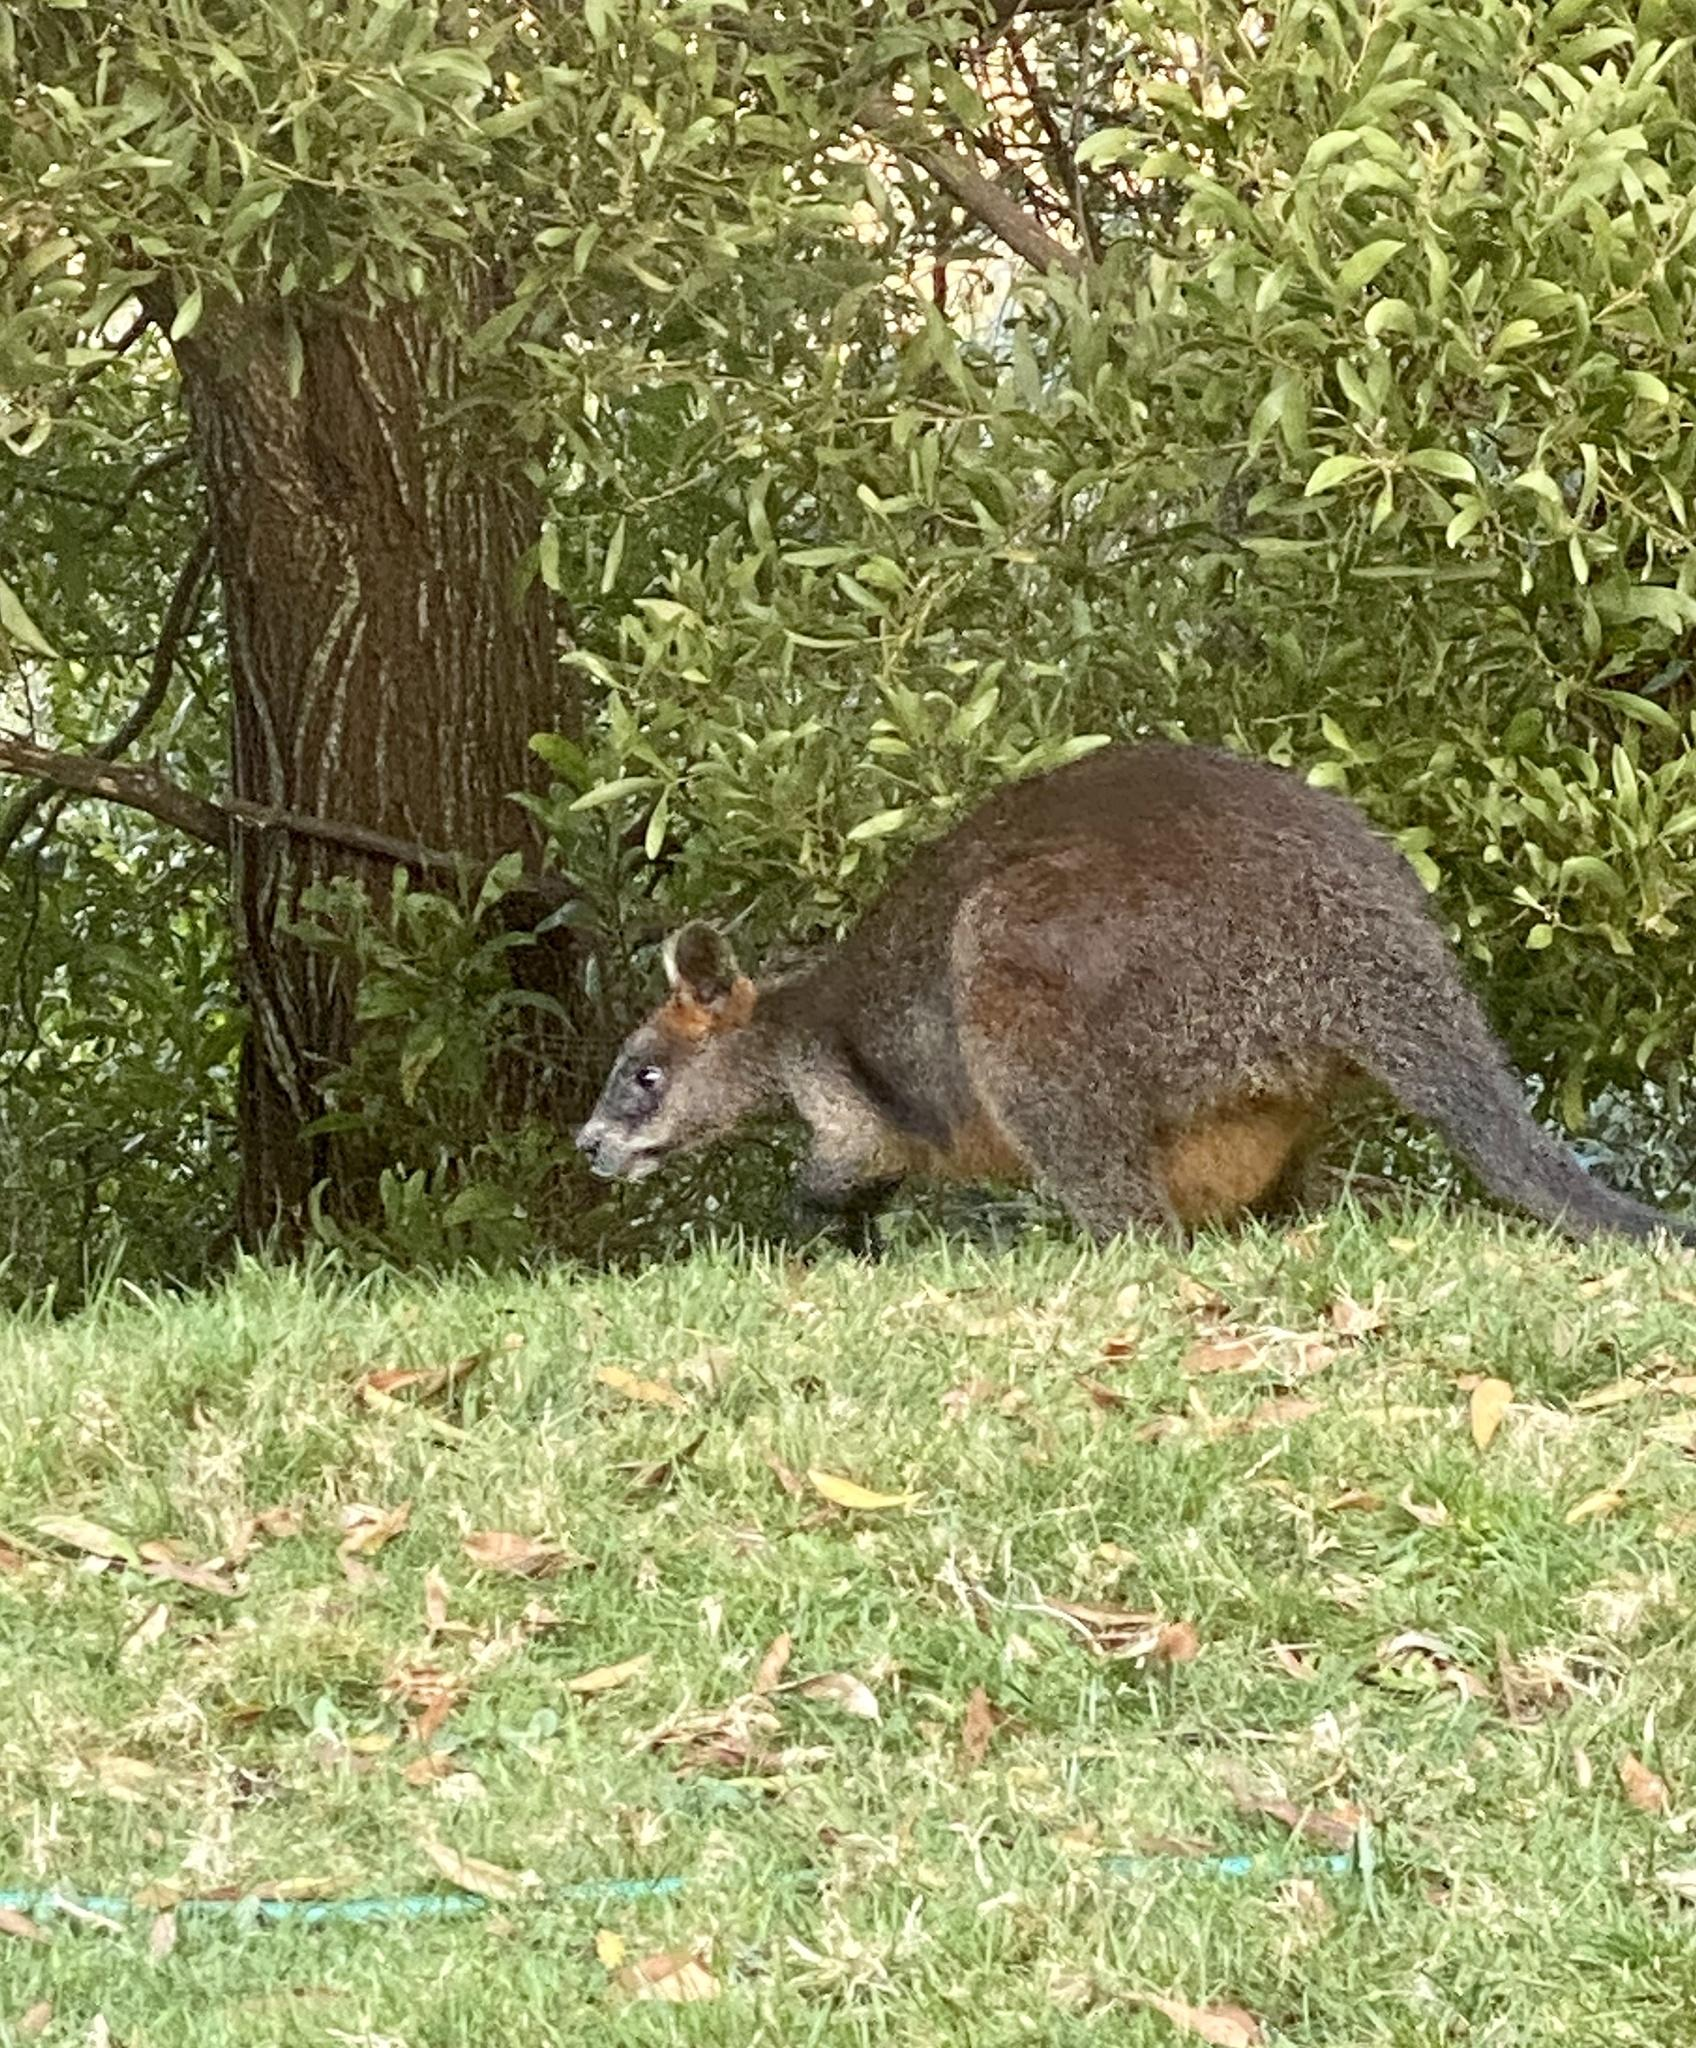Swamp wallaby: (556, 725, 1696, 1284)
